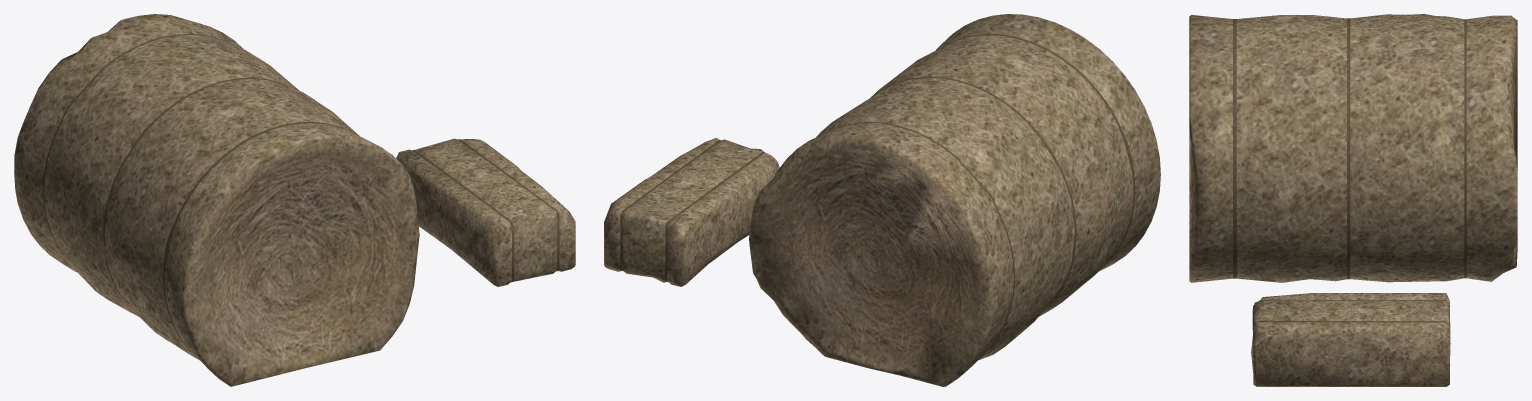
Rendered from hay-bales.lod0.glb.
The picture shows the model from 3 angles, left to right: view 1: azimuth 30°, elevation 25°; view 2: azimuth 150°, elevation 25°; view 3: azimuth 270°, elevation 25°; orthographic projection. The views are drawn at different scales.
Visible parts, largest first — view 1: Object_4; view 2: Object_4; view 3: Object_4.
Boxes of the visible parts, left/top/right/bottom form: Object_4: left=14, top=14, right=575, bottom=386; Object_4: left=604, top=14, right=1160, bottom=386; Object_4: left=1189, top=14, right=1517, bottom=386.
Bounding box in the file's own units: 3.55 × 1.81 × 2.42.
1 material, 1 textured.
